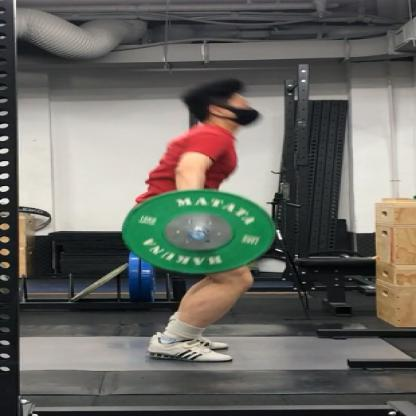Barbell: (110, 184, 284, 276)
